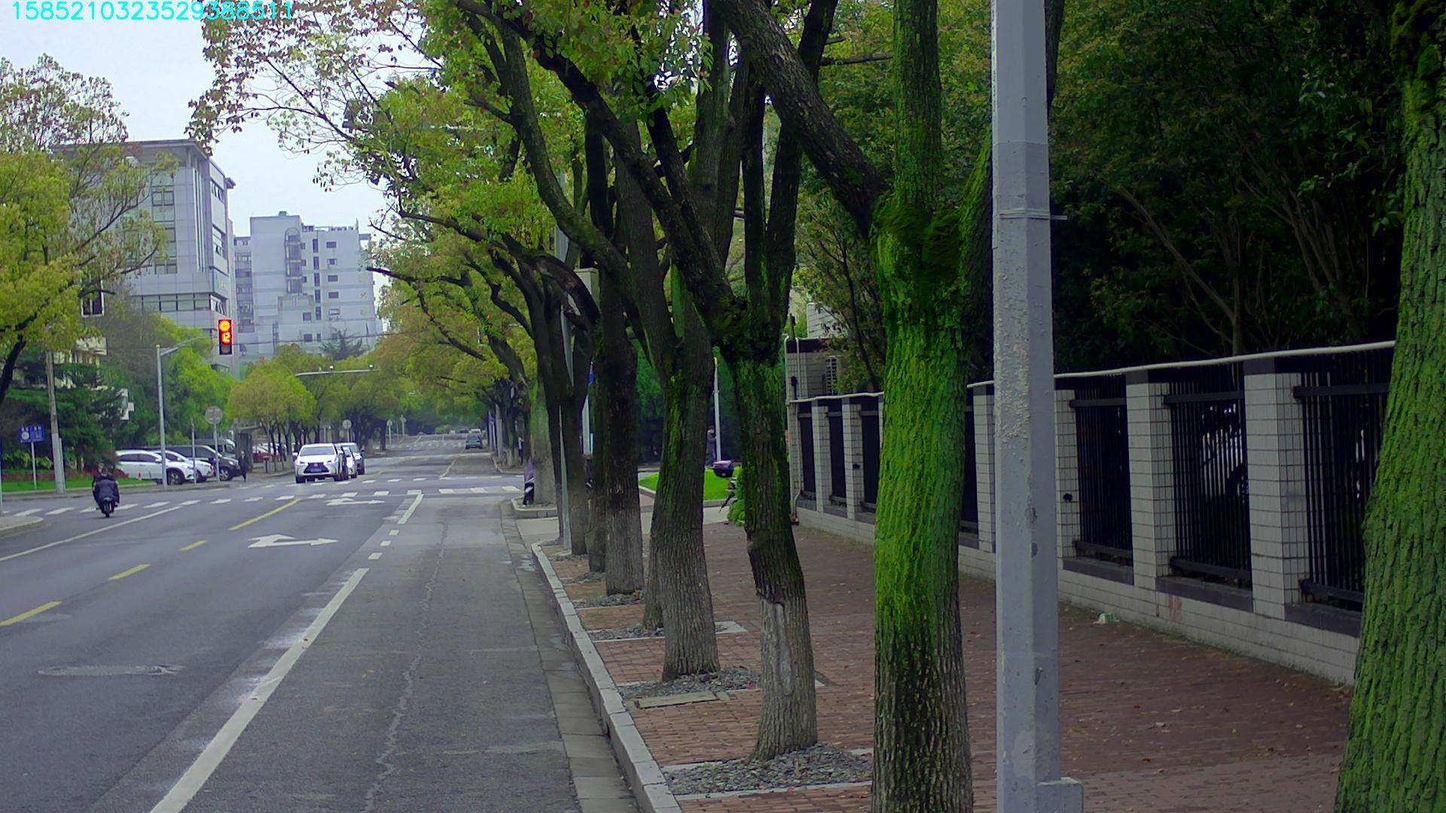red: (218, 318, 231, 355)
